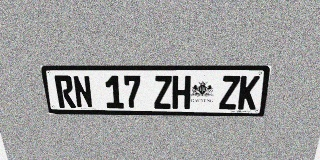1: (104, 76, 124, 108)
7: (122, 76, 142, 109)
H: (172, 76, 191, 109)
K: (237, 76, 260, 110)
N: (72, 75, 93, 108)
R: (54, 75, 76, 108)
Z: (219, 76, 240, 109), (154, 76, 172, 109)
